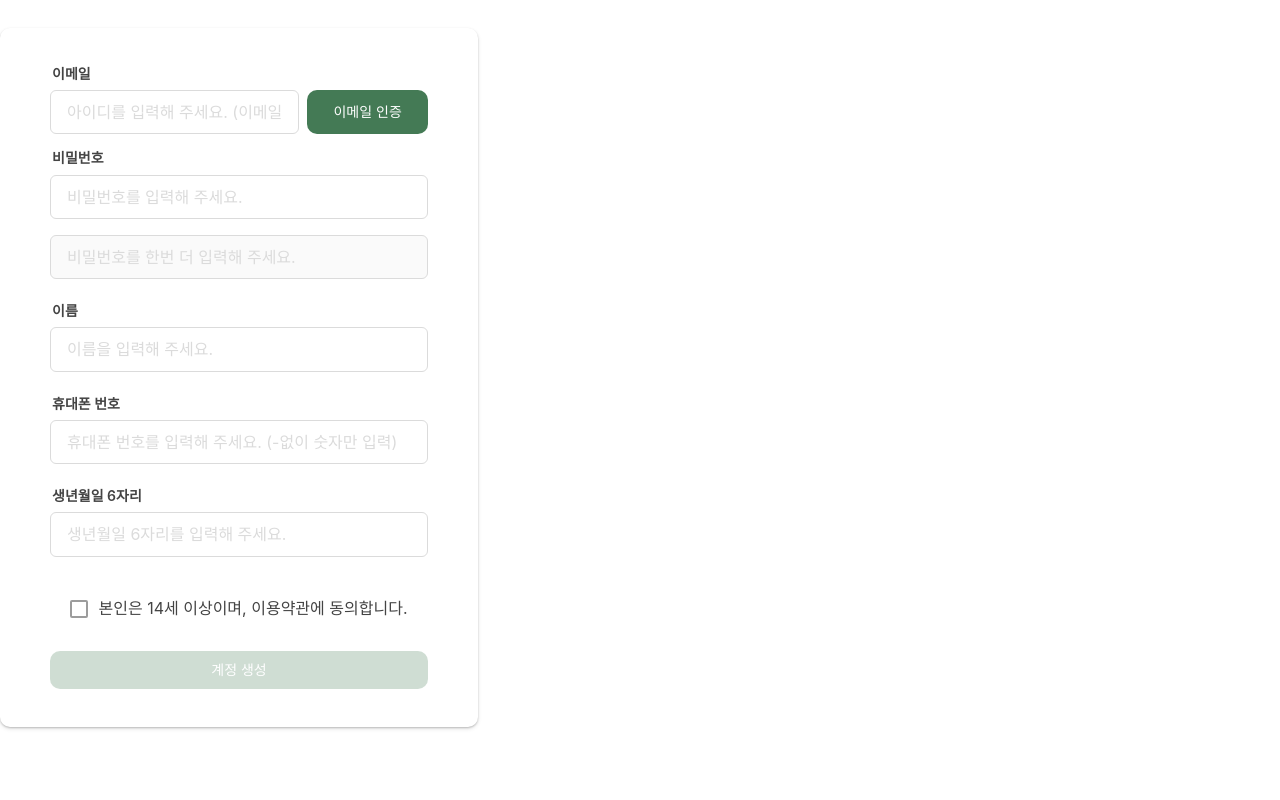
it: JoinForm 컴포넌트 테스트 › 이메일 › 올바른 이메일을 입력하고 이메일 인증 버튼을 클릭하면 인증 번호가 발송되었다는 모달 창이 떠야 한다.
Step 1. Type "example@gmail.com" into the field labelled "이메일" → (175, 112), box [50,90,299,134]
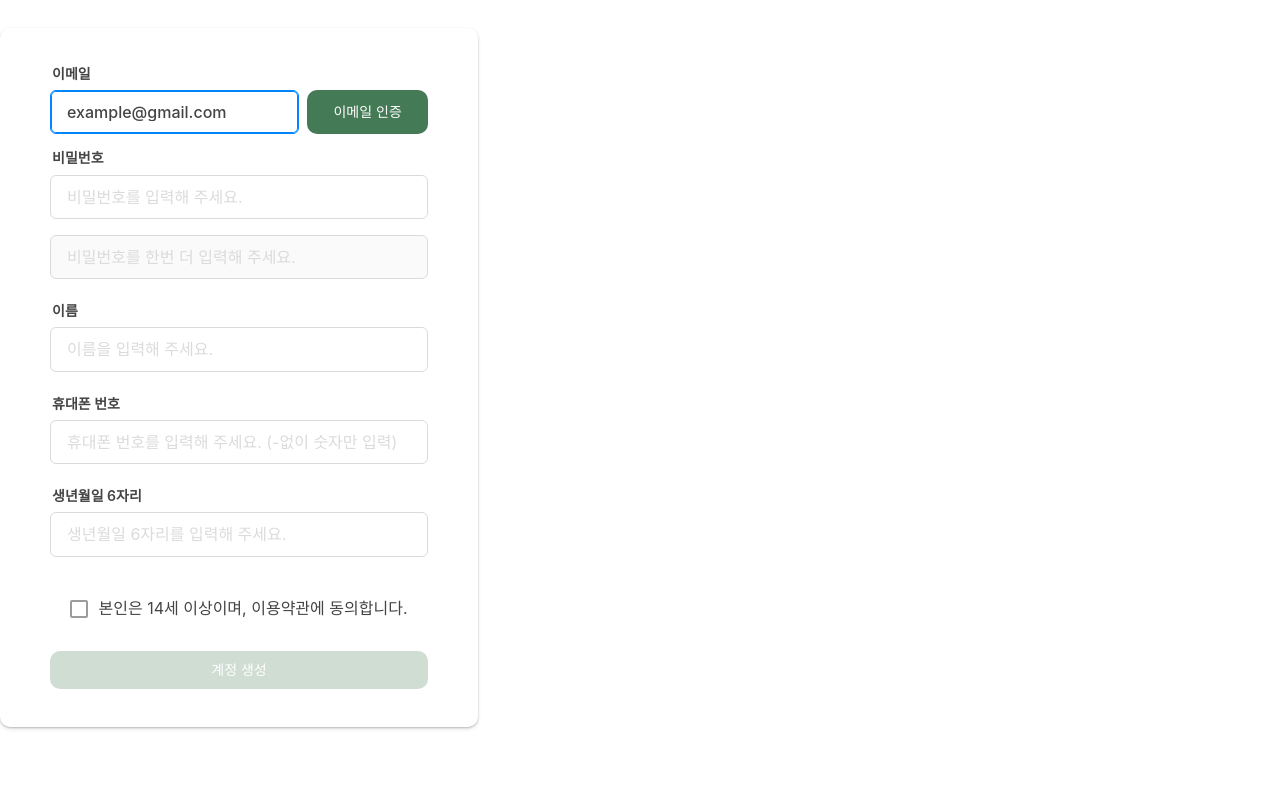
Step 2. Click the button "이메일 인증" → (368, 112), box [307,90,428,134]
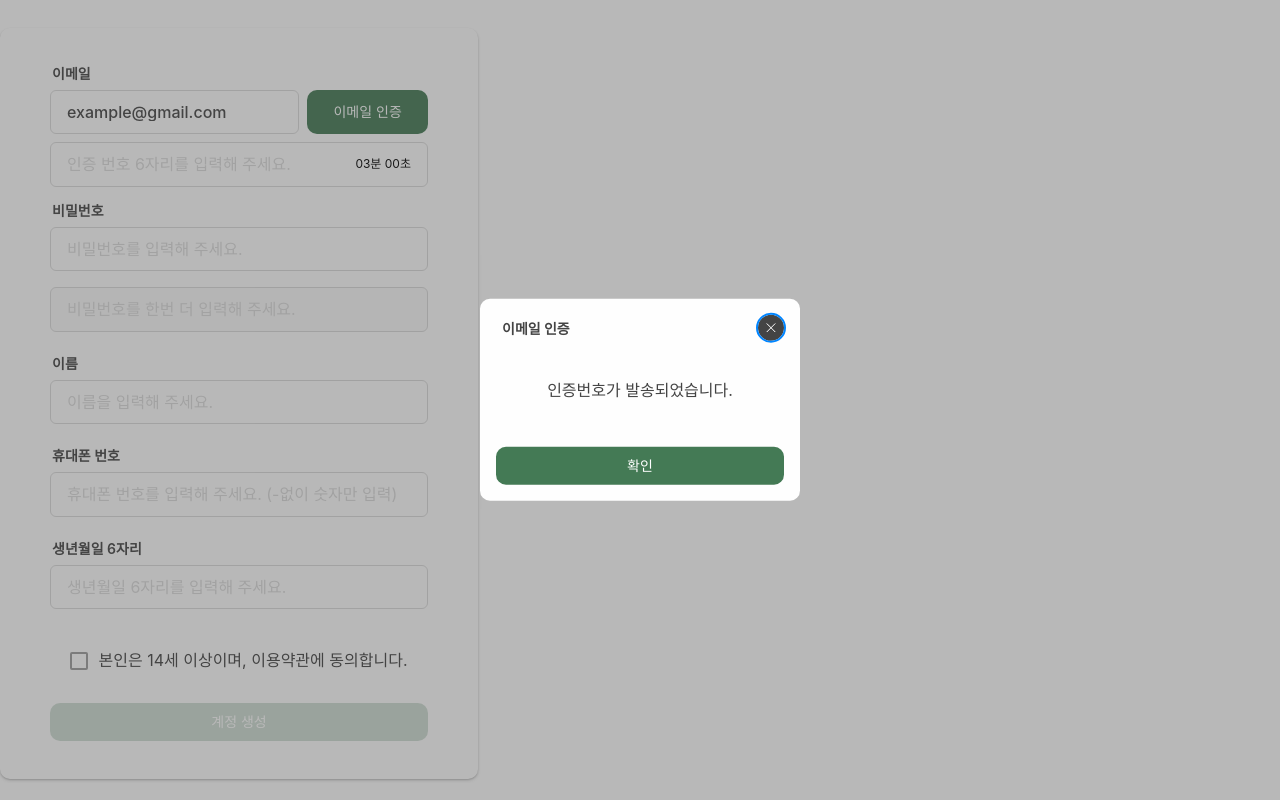
Result: the dialog is shown at [480,299,800,501]
